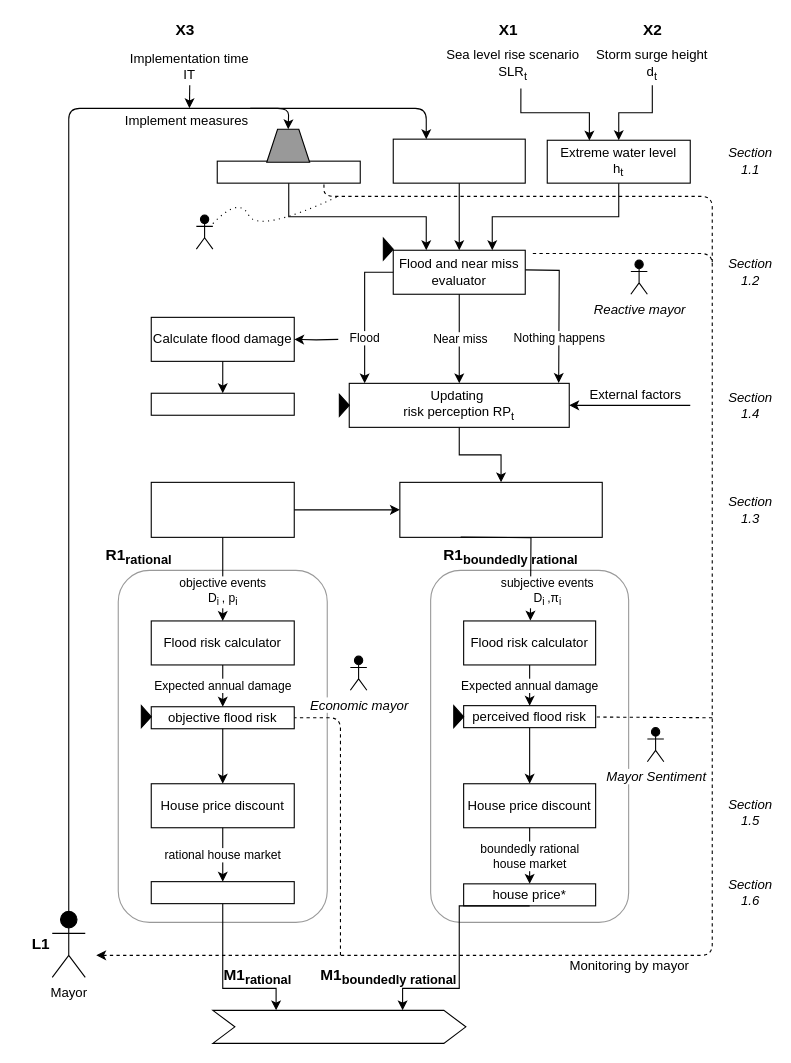
Image size: 791x1063. Some labels were removed from this diagram. The centre of each missing label's shape, as x and y in pixels:
Correct for risk perception: pixel 500 509
Dike height H t: pixel 288 171
house price: pixel 222 892
Level residential area l RA: pixel 458 160
observed damage: pixel 222 403
Proactive mayor: pixel 204 231
Synthetic event generator (1:2, 1:5 ..., 1:1000): pixel 222 509
Tipping point evaluation: pixel 339 1026
